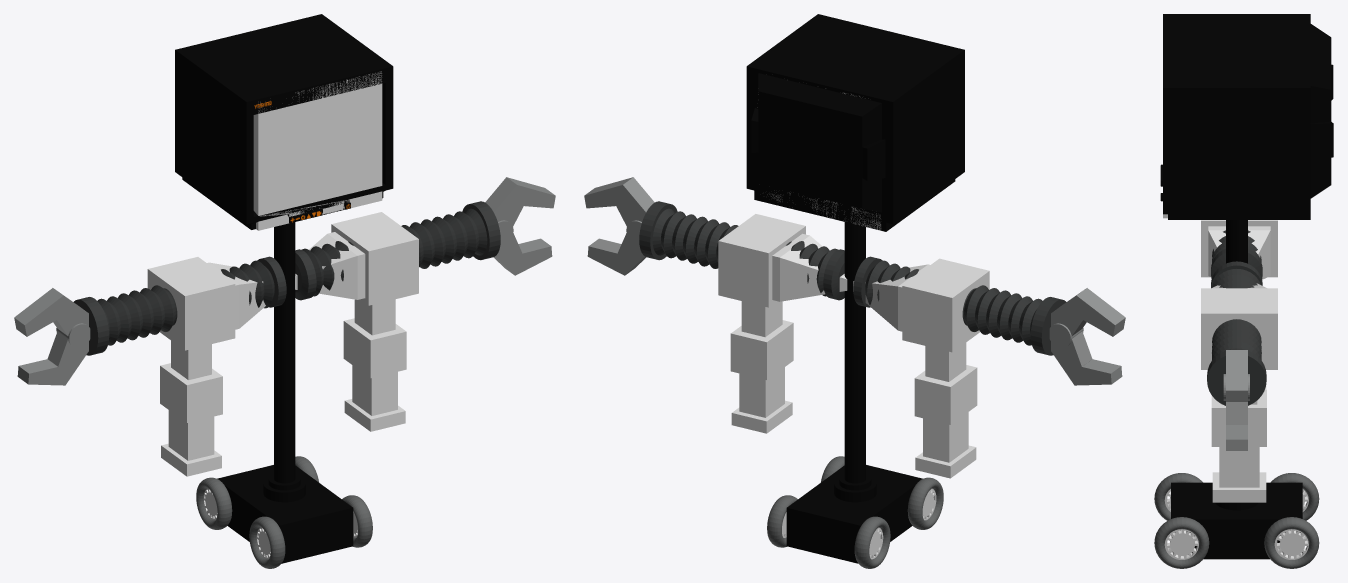
The model's file is Robot TV (Version A).fbx.
3 views of the same model, side by side, from view 1: azimuth 30°, elevation 25°; view 2: azimuth 150°, elevation 25°; view 3: azimuth 270°, elevation 25° (orthographic). The views are drawn at different scales.
Parts seen in each view (by area): view 1: Arm, Head, Place Holder Head.001, Base, Arm (Right), Arm (Left), Pole, Claw (Left), Claw (Right), Wheel 1, Wheel 3, Wheel 4; view 2: Head, Arm, Base, Arm (Left), Arm (Right), Pole, Claw (Left), Claw (Right), Wheel 3, Wheel 1, Wheel 2; view 3: Head, Arm, Base, Arm (Right), Claw (Right), Wheel 2, Wheel 4, Pole, Rim.001, Rim.003, Wheel 1, Wheel 3 (+2 smaller).
Boxes of the visible parts, <box> form: Arm: <box>147,212,418,476</box>; Head: <box>175,14,393,229</box>; Place Holder Head.001: <box>253,71,382,230</box>; Base: <box>217,465,353,563</box>; Arm (Right): <box>295,201,500,300</box>; Arm (Left): <box>73,256,286,355</box>; Pole: <box>274,222,295,483</box>; Claw (Left): <box>14,288,90,385</box>; Claw (Right): <box>485,177,555,275</box>; Wheel 1: <box>196,477,232,529</box>; Wheel 3: <box>249,516,285,568</box>; Wheel 4: <box>342,495,372,547</box>; Head: <box>746,14,964,231</box>; Arm: <box>718,214,989,478</box>; Base: <box>786,465,922,563</box>; Arm (Left): <box>853,256,1066,355</box>; Arm (Right): <box>639,201,844,300</box>; Pole: <box>844,222,865,483</box>; Claw (Left): <box>1049,288,1125,385</box>; Claw (Right): <box>584,177,654,275</box>; Wheel 3: <box>907,477,943,529</box>; Wheel 1: <box>854,516,890,568</box>; Wheel 2: <box>767,495,797,547</box>; Head: <box>1160,14,1333,219</box>; Arm: <box>1201,220,1277,502</box>; Base: <box>1171,482,1302,559</box>; Arm (Right): <box>1207,261,1266,405</box>; Claw (Right): <box>1223,350,1249,450</box>; Wheel 2: <box>1264,517,1319,568</box>; Wheel 4: <box>1154,517,1209,568</box>; Pole: <box>1226,220,1247,263</box>; Rim.001: <box>1274,529,1308,559</box>; Rim.003: <box>1164,529,1198,559</box>; Wheel 1: <box>1270,473,1319,520</box>; Wheel 3: <box>1154,473,1202,520</box>.
Bounding box in the file's own units: 2882 × 2483 × 815.
